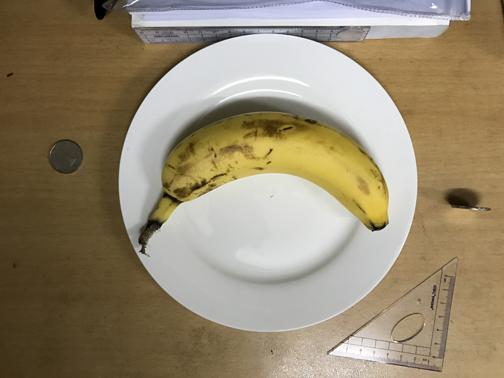banana: (139, 113, 389, 232)
coin: (47, 138, 85, 174)
